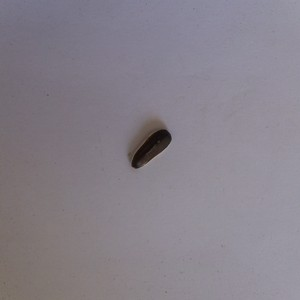girasol: (130, 127, 174, 171)
